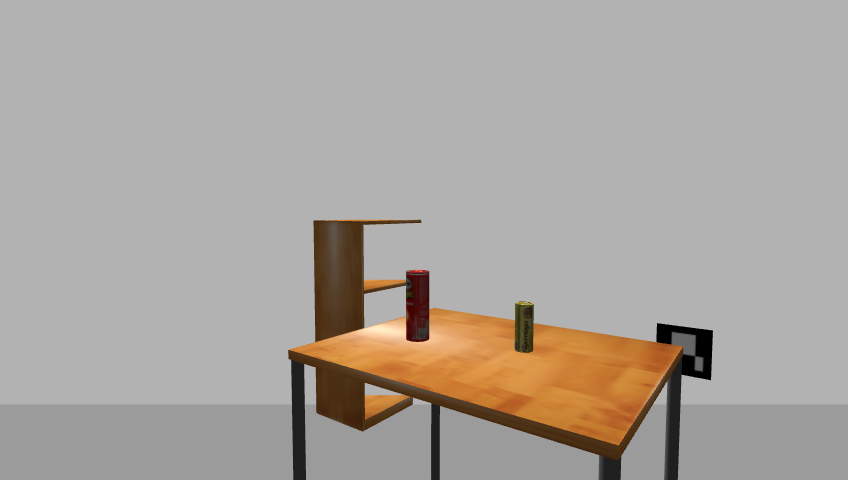aruco marker: (652, 321, 717, 382)
biscuits pack: (513, 301, 535, 354)
bookshelf: (308, 216, 425, 435)
dinner table: (283, 310, 693, 479)
pringles can: (403, 270, 432, 344)
